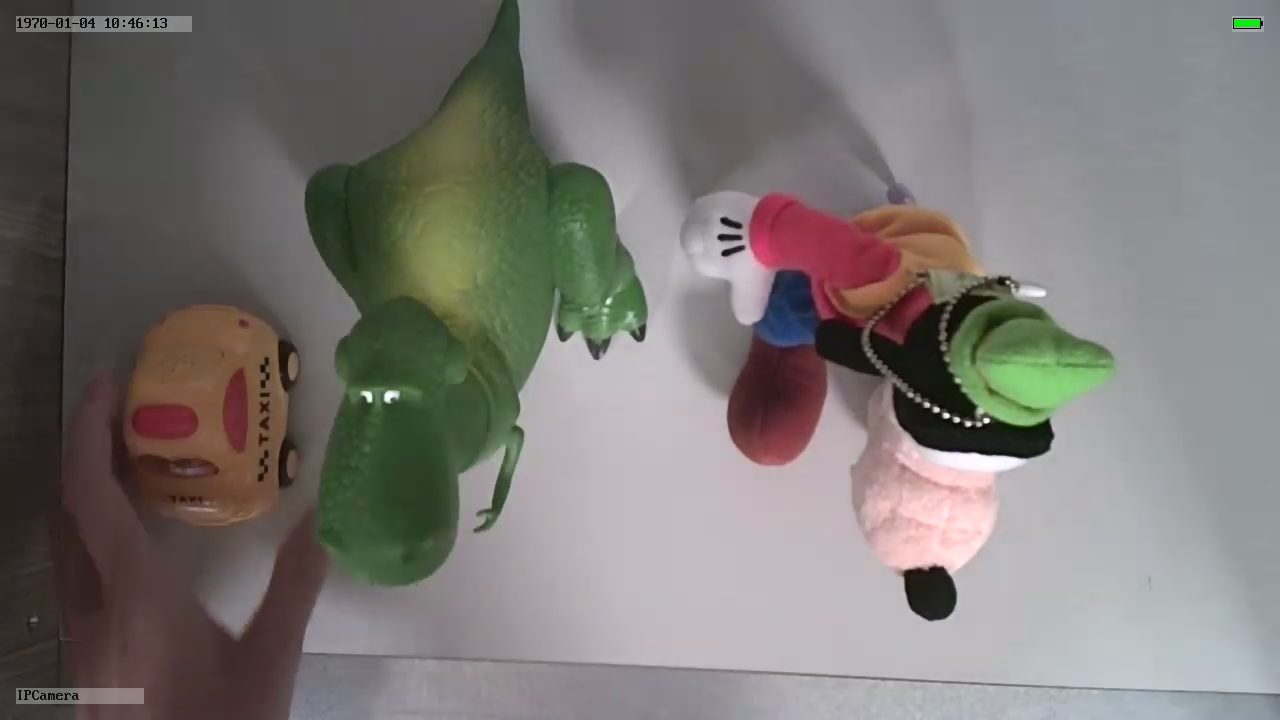goofy: (674, 172, 1119, 627)
